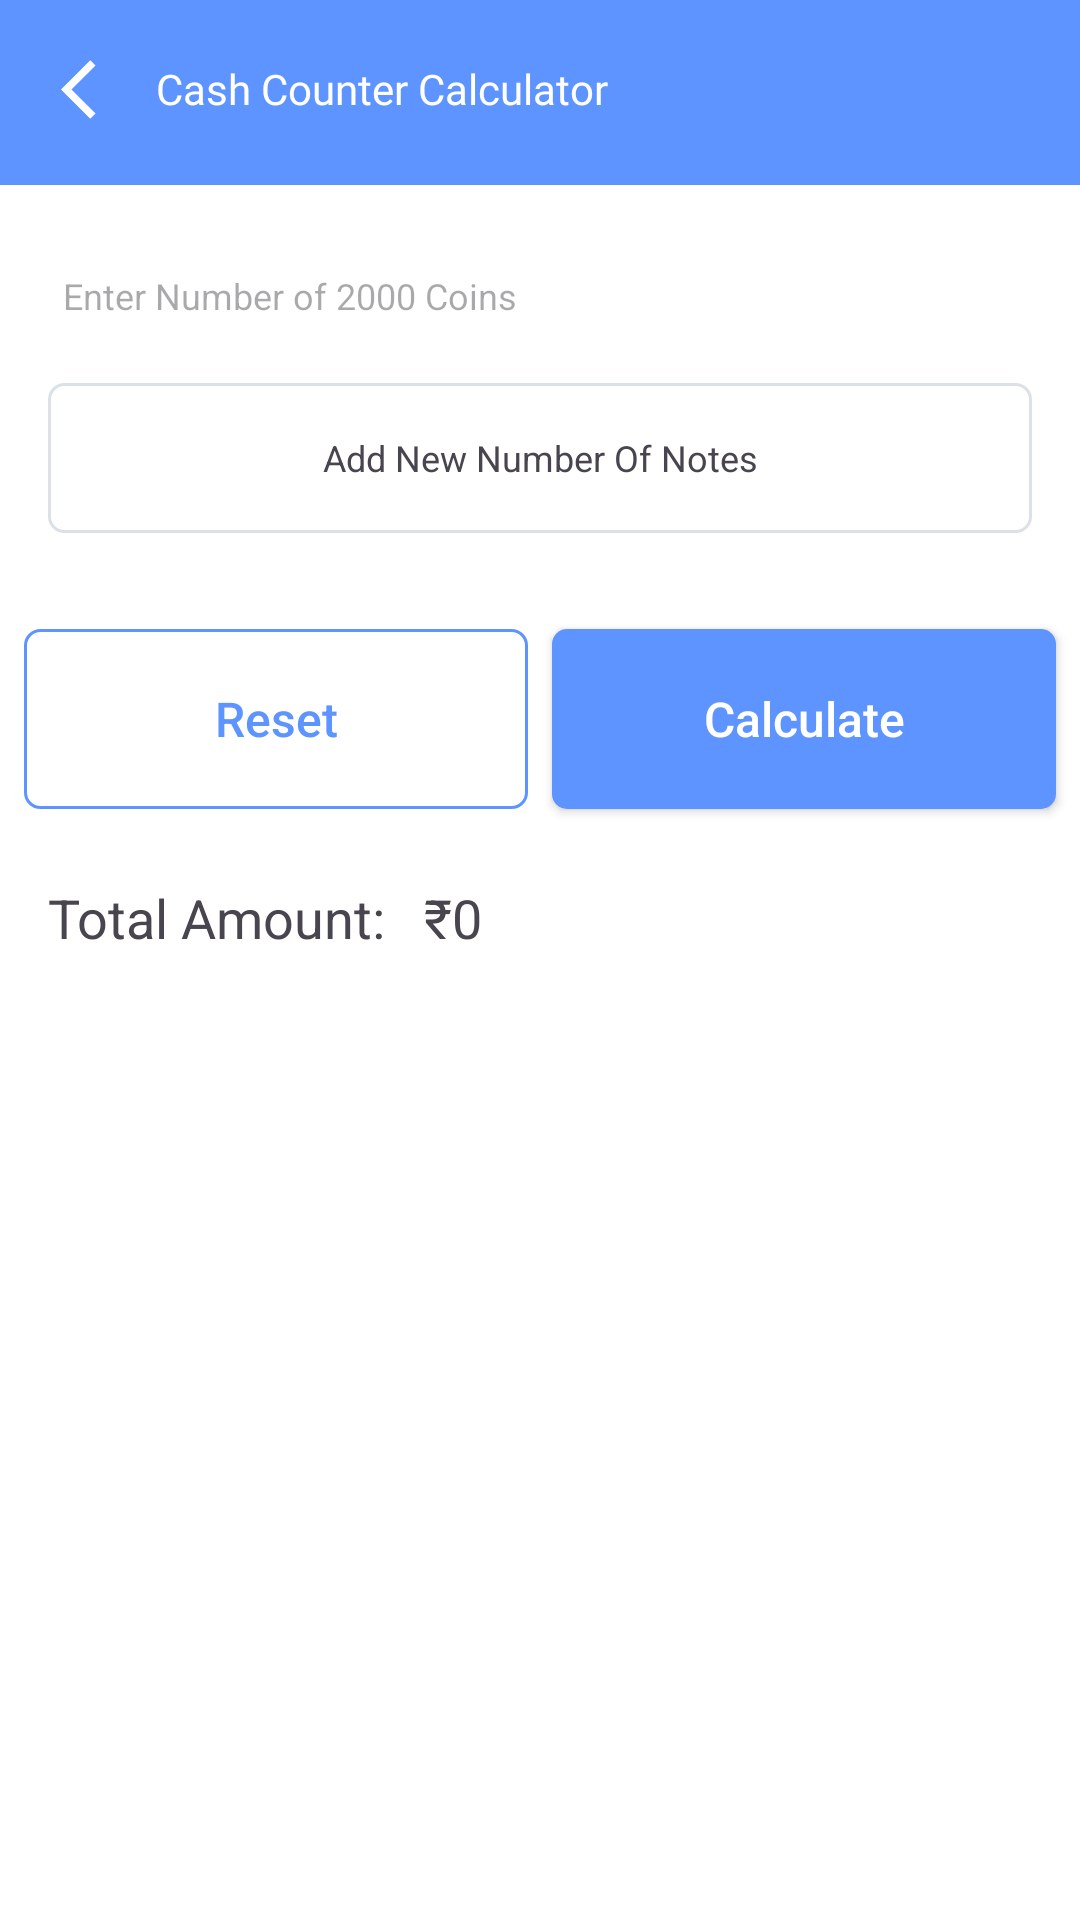

Screen size 1080px×1920px. Icon name, then its box in pixels as [left=x1, top=y1, right=x2, bottom=y2]:
arrow back: [left=61, top=60, right=96, bottom=119]
